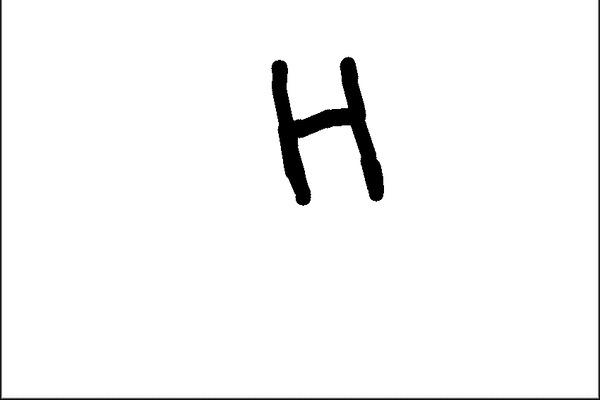H: (266, 48, 390, 209)
